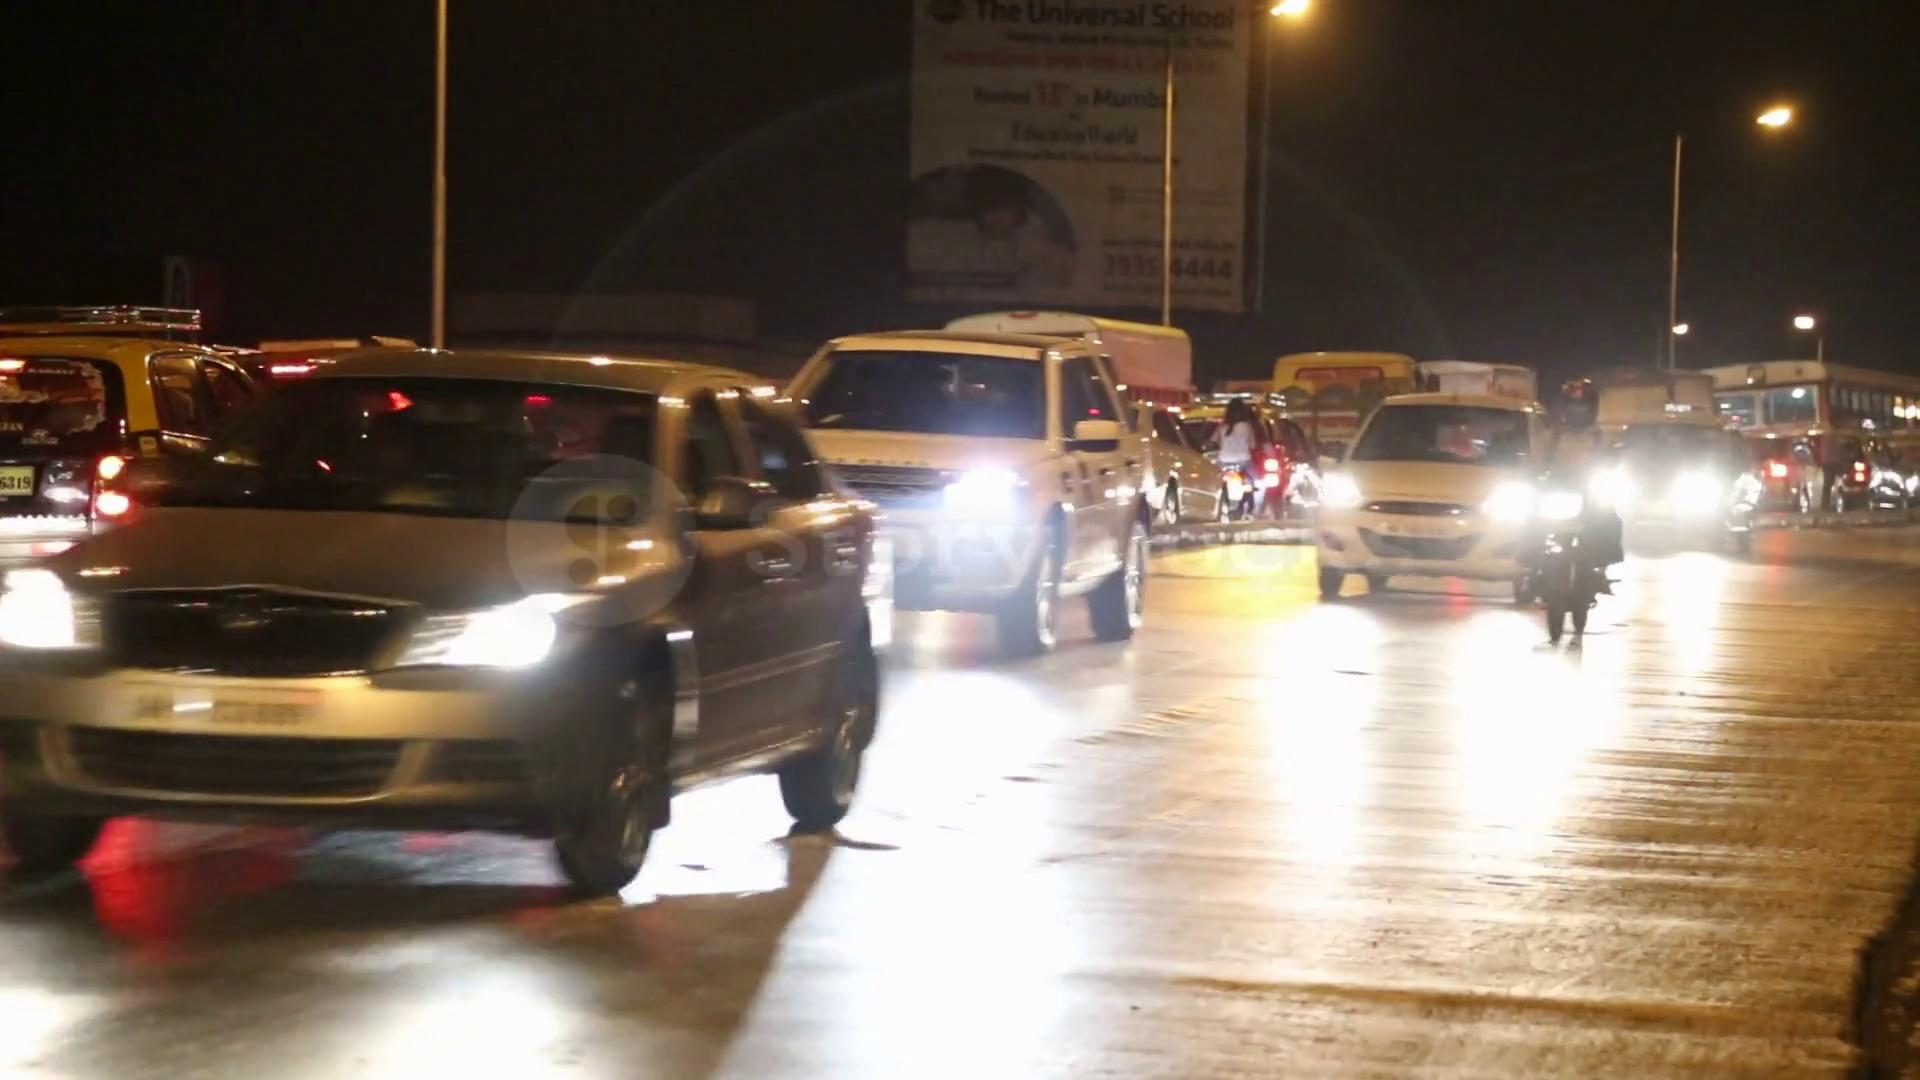rider: (1519, 371, 1619, 646), (1206, 397, 1266, 521)
